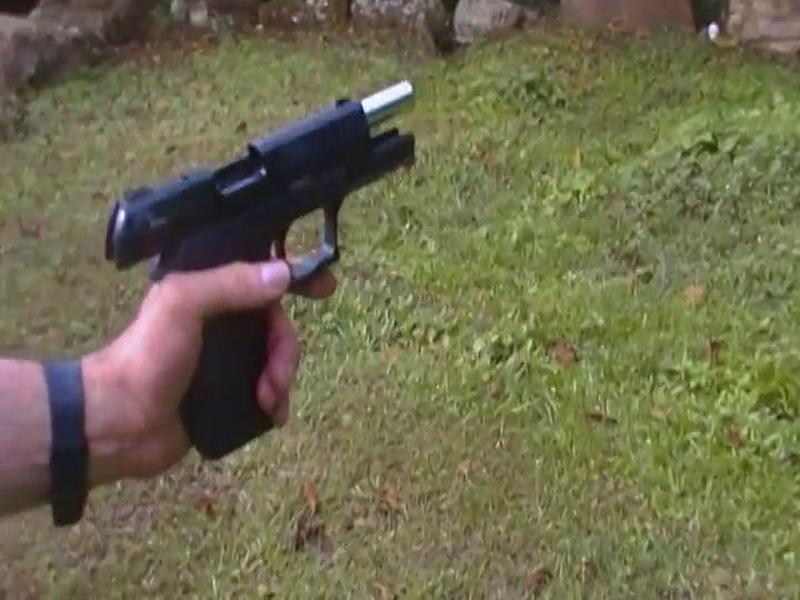Pistola: (111, 92, 439, 464)
